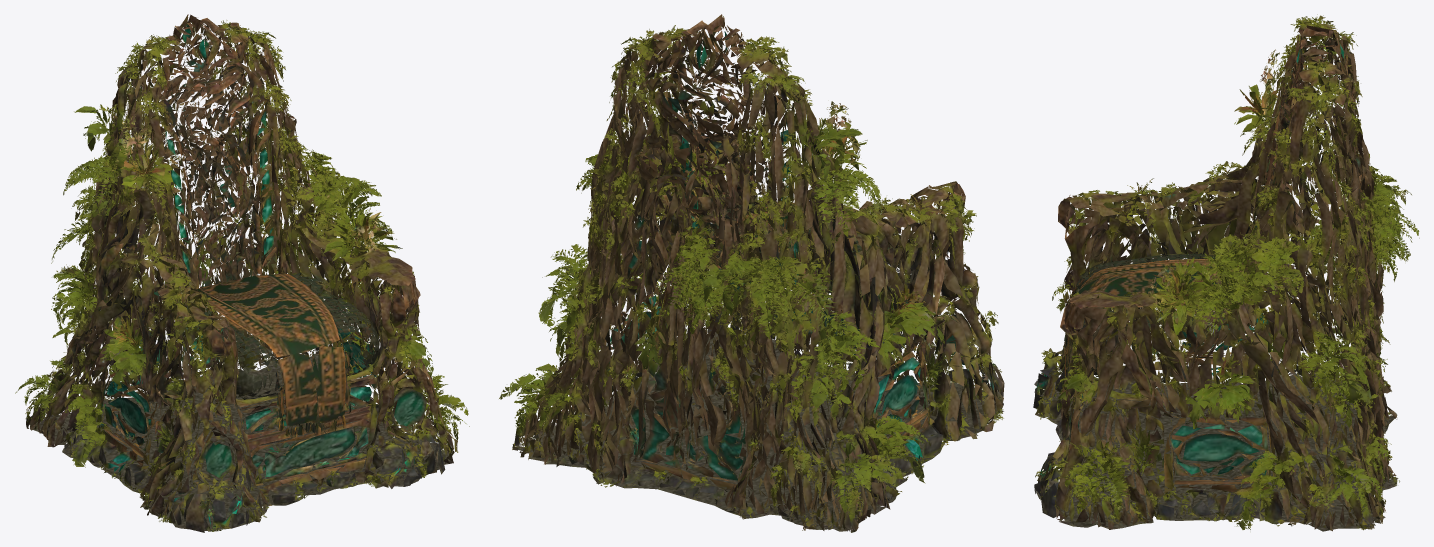
The model's file is king-throne.glb.
3 renders of one model, left to right at view 1: azimuth 30°, elevation 25°; view 2: azimuth 150°, elevation 25°; view 3: azimuth 270°, elevation 25°, orthographic. The views are drawn at different scales.
Visible parts, largest first — view 1: Mesh_0; view 2: Mesh_0; view 3: Mesh_0.
Boxes of the visible parts, bbox=[...] form: Mesh_0: bbox=[15, 14, 469, 532]; Mesh_0: bbox=[499, 14, 1004, 532]; Mesh_0: bbox=[1033, 14, 1419, 531].
Bounding box in the file's own units: 1.67 × 1.91 × 1.57.
1 material, 1 textured.
